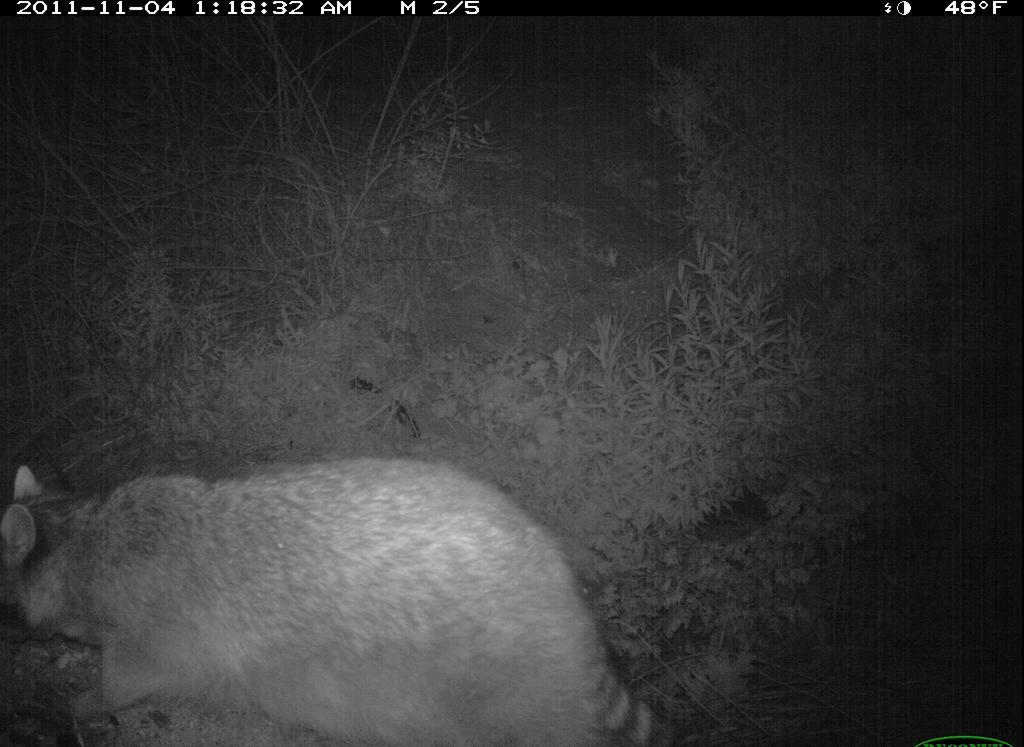raccoon: (6, 429, 662, 742)
